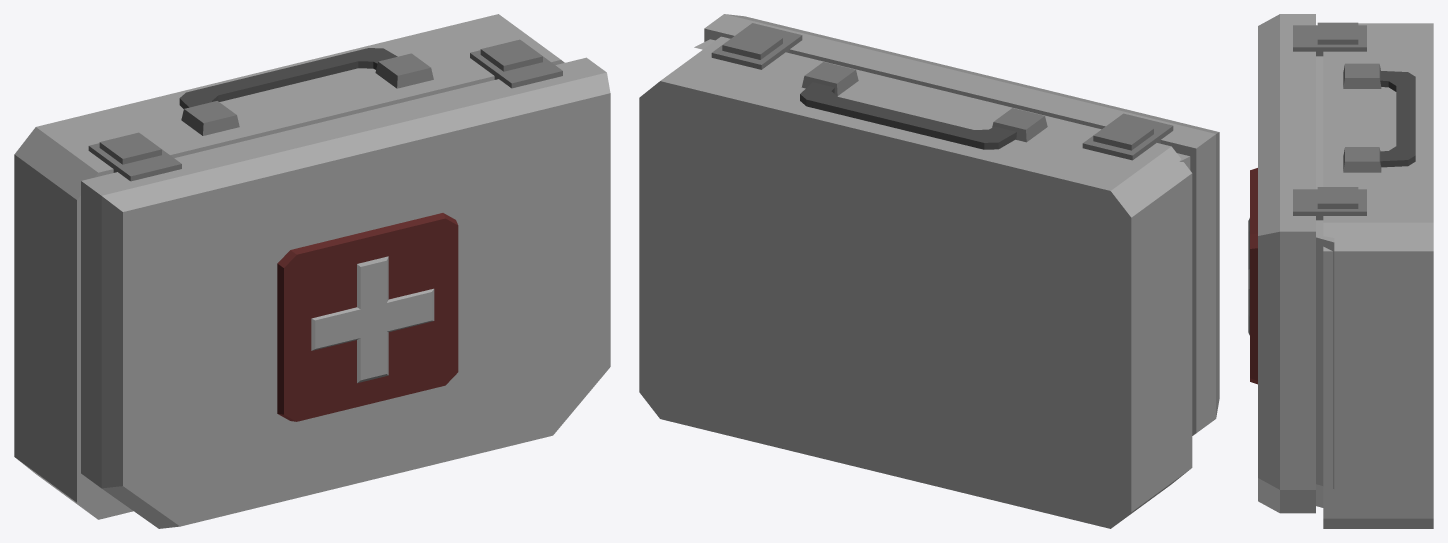
The model's file is first-aid-kit.glb.
The picture shows the model from 3 angles, left to right: view 1: azimuth 30°, elevation 25°; view 2: azimuth 150°, elevation 25°; view 3: azimuth 270°, elevation 25°; orthographic projection. The views are drawn at different scales.
Parts seen in each view (by area): view 1: FirstAidKit_Hard; view 2: FirstAidKit_Hard; view 3: FirstAidKit_Hard.
Part boxes in pixels (box(x1,y1,x2,y2)): FirstAidKit_Hard: box(14, 14, 610, 528); FirstAidKit_Hard: box(639, 14, 1219, 528); FirstAidKit_Hard: box(1248, 14, 1433, 528).
Size of the model in its own units: 1.88 by 1.28 by 0.677.
